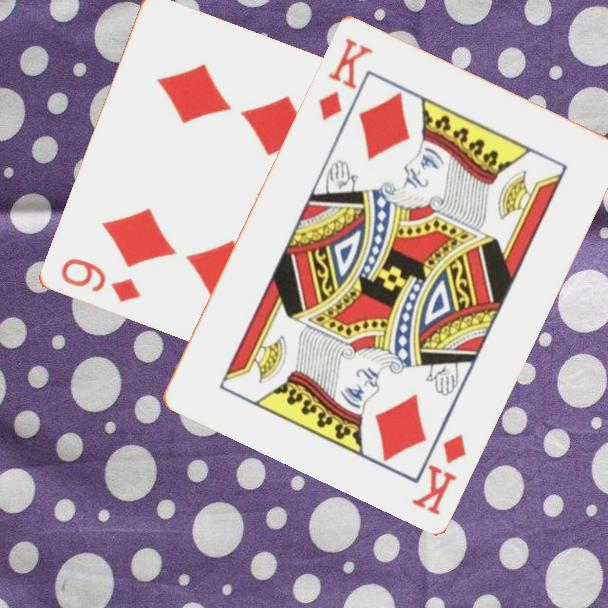d09: (56, 255, 143, 306)
d13: (314, 34, 376, 123), (408, 429, 469, 518)
